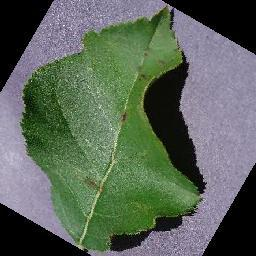apple healthy: (18, 4, 205, 252)
